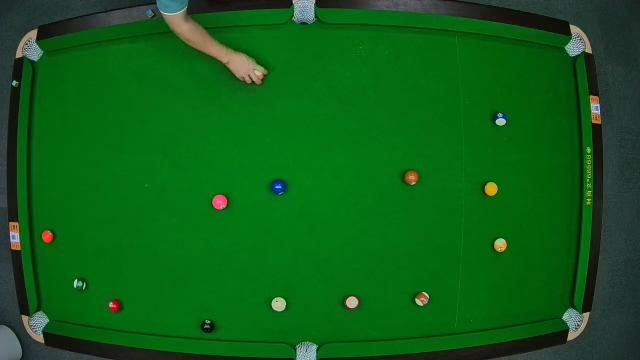bag1: (18, 38, 42, 60)
bag2: (294, 0, 316, 24)
bag3: (565, 34, 587, 57)
bag4: (26, 308, 49, 332)
bag5: (294, 340, 318, 360)
bag6: (562, 308, 584, 330)
ball0: (272, 296, 286, 312)
ball1: (486, 182, 498, 197)
ball10: (492, 112, 508, 126)
ball11: (344, 294, 360, 310)
ball14: (72, 278, 88, 292)
ball15: (414, 290, 430, 306)
ball2: (272, 179, 286, 194)
ball3: (108, 300, 122, 312)
ball4: (212, 194, 228, 210)
ball5: (41, 229, 53, 243)
ball7: (405, 170, 419, 186)
ball8: (200, 319, 216, 333)
ball9: (494, 238, 508, 254)
